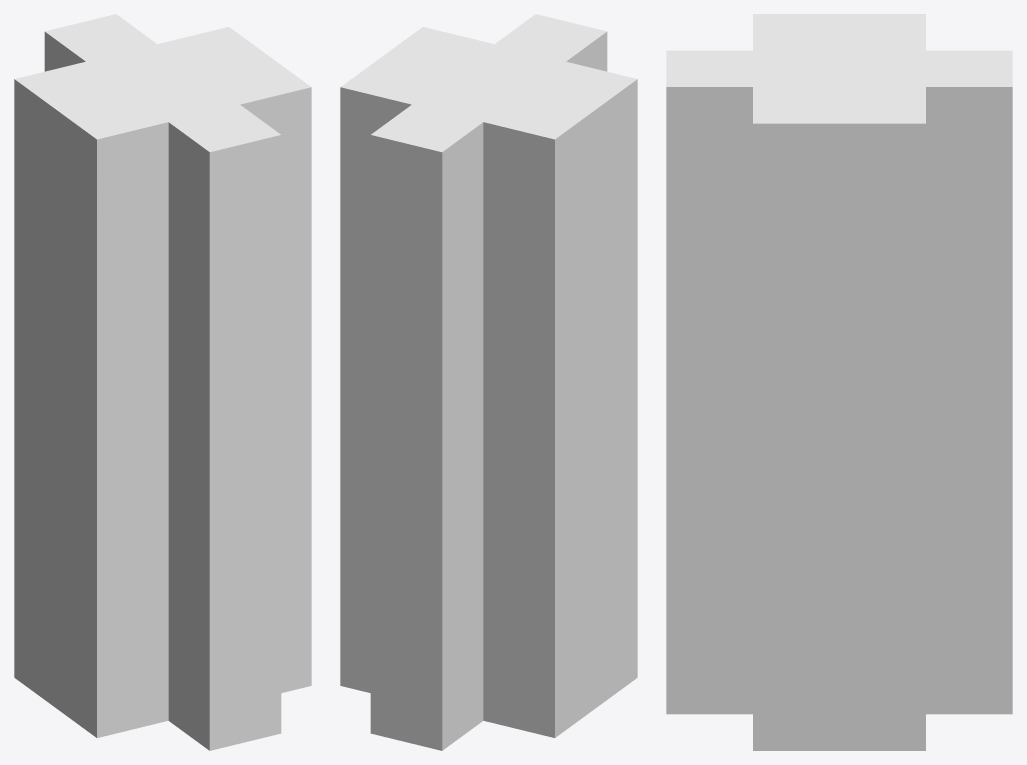
Rendered from Left_Thigh.obj.
3 views of the same model, side by side, from view 1: azimuth 30°, elevation 25°; view 2: azimuth 150°, elevation 25°; view 3: azimuth 270°, elevation 25° (orthographic). The views are drawn at different scales.
Size of the model in its own units: 0.3 by 0.8 by 0.4.
1 material, 1 textured.
